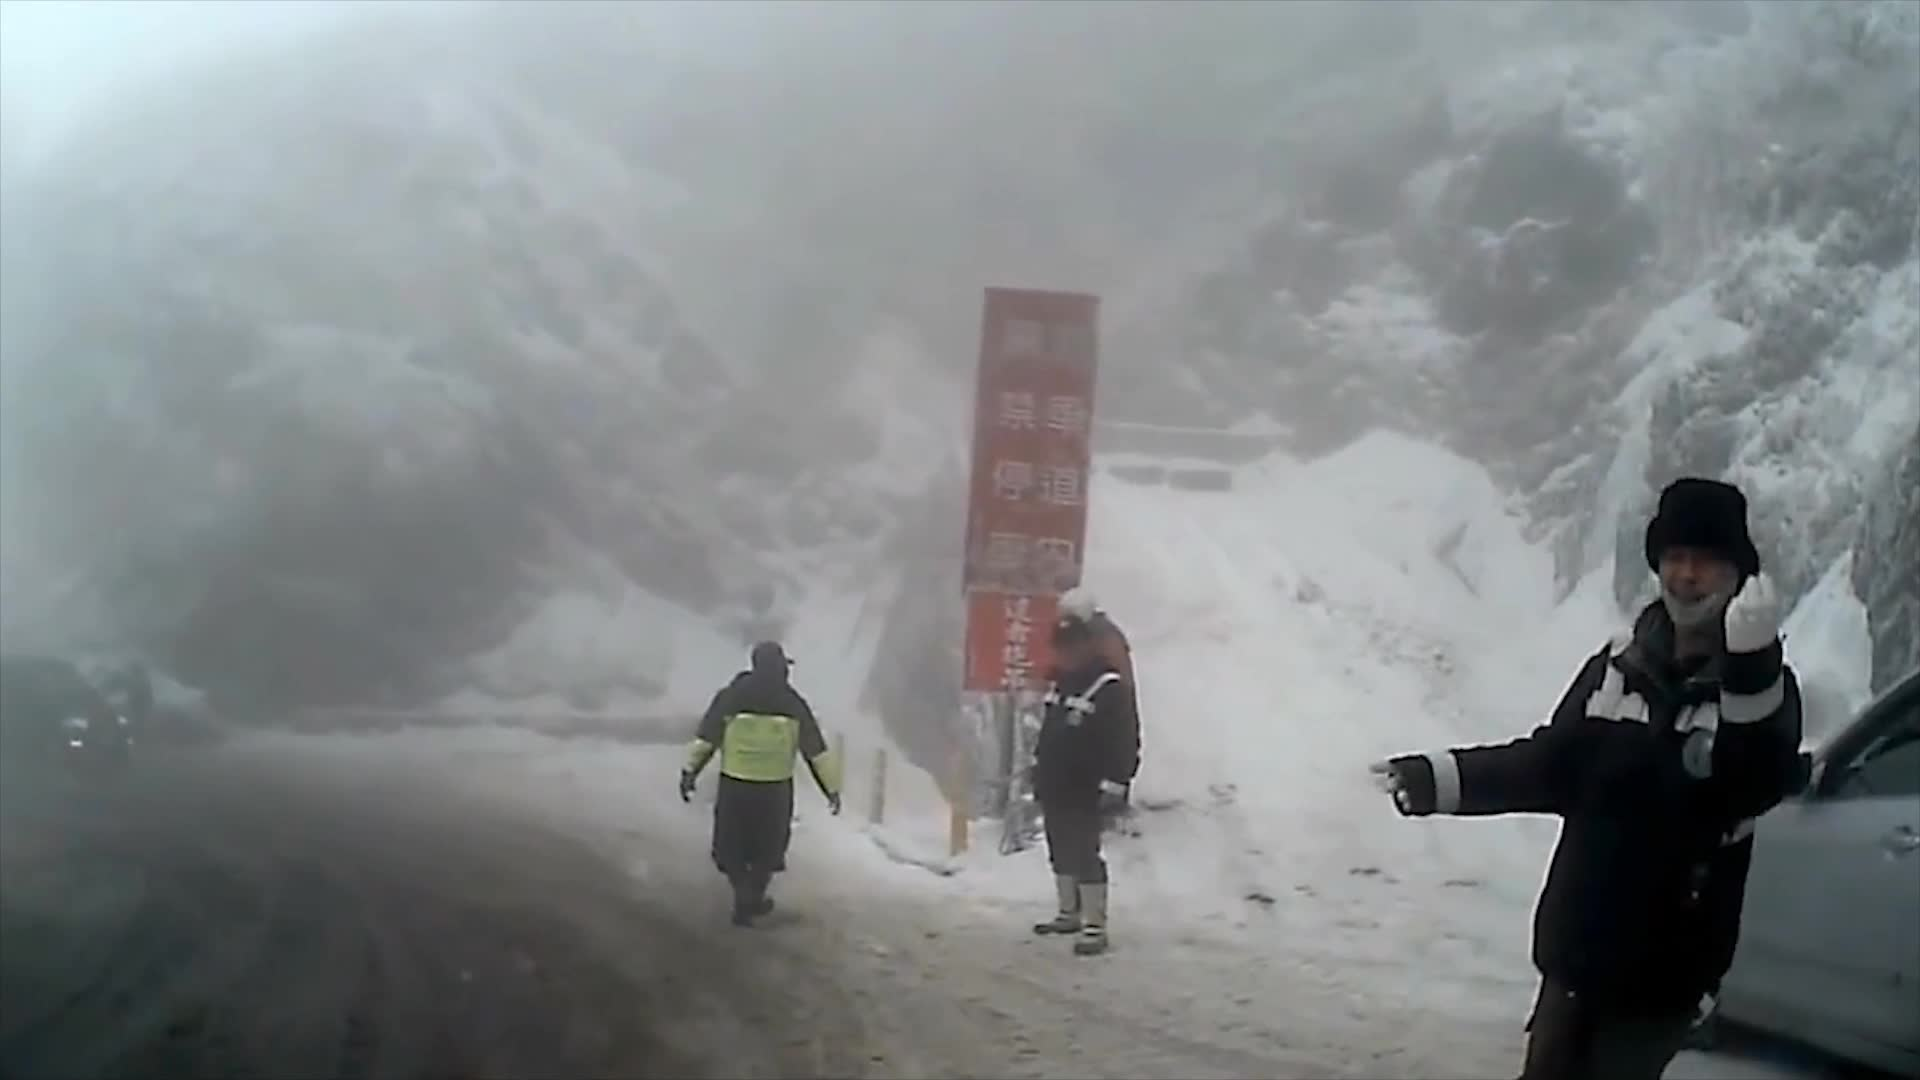pedestrian: (1371, 480, 1801, 1078), (676, 638, 824, 914), (1033, 615, 1140, 955)
vehicle: (1577, 658, 1919, 1079)
